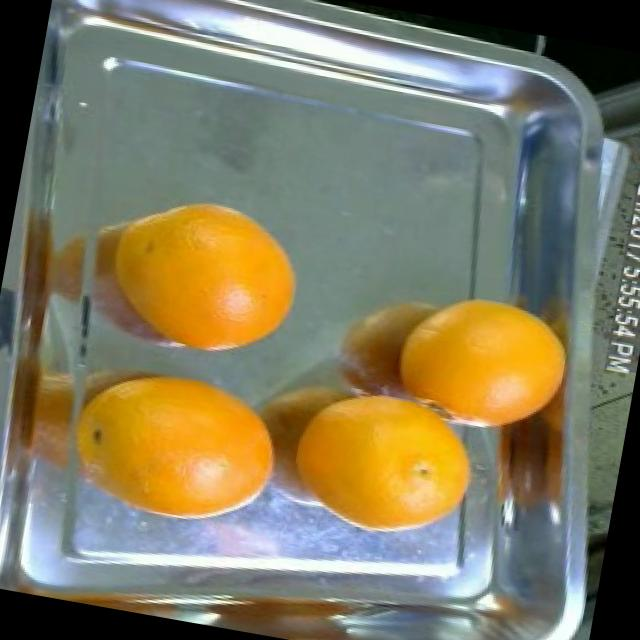Fruit: (266, 361, 510, 574), (90, 176, 324, 387), (362, 264, 590, 454)
